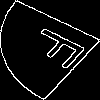F: (24, 25, 100, 76)
